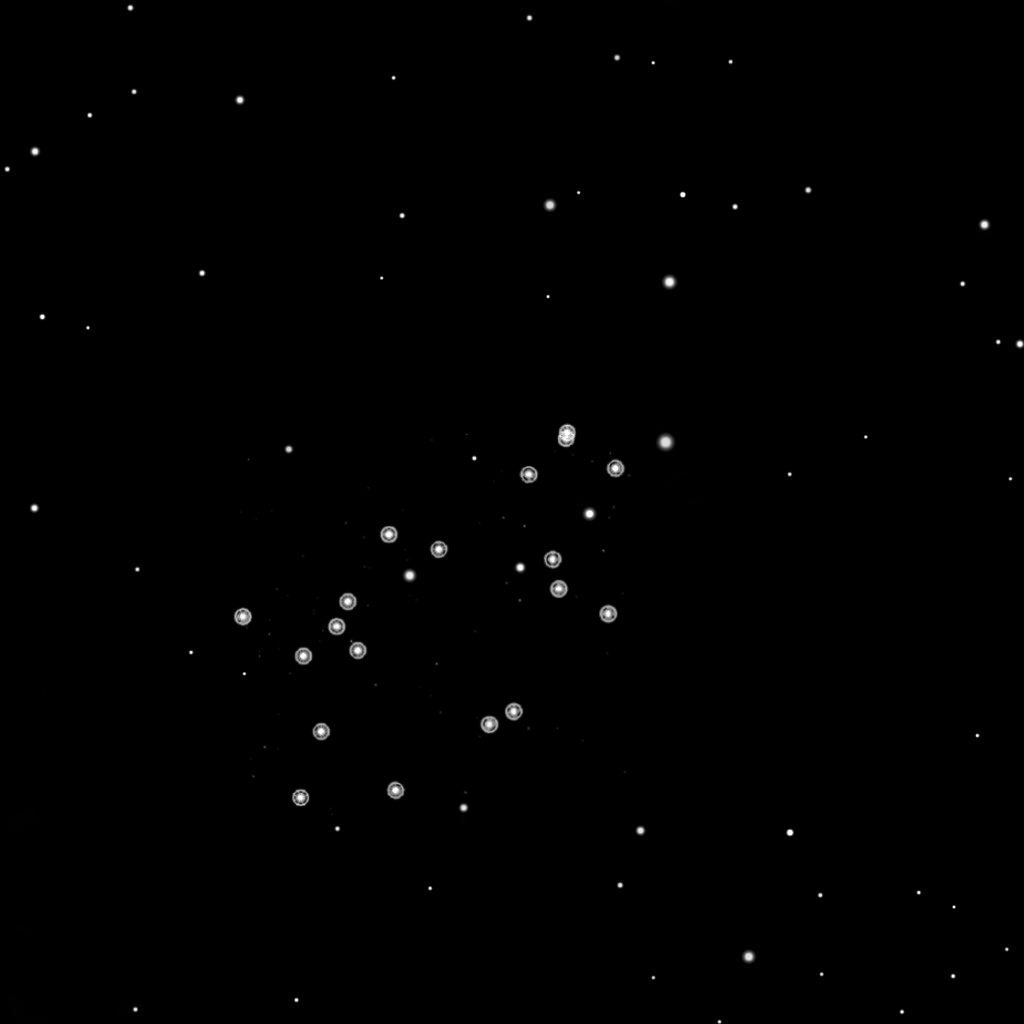canis_major: (289, 519, 452, 677)
